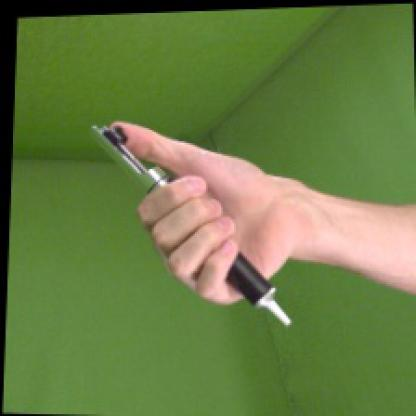Hand: (108, 121, 295, 306)
